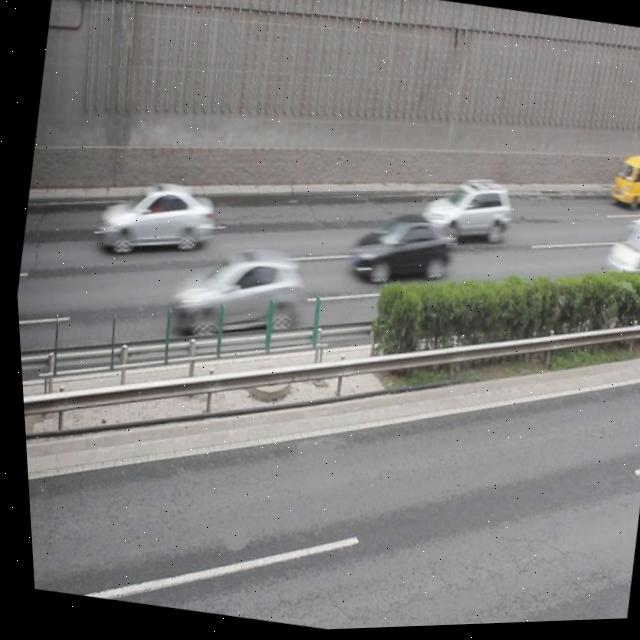car: (159, 236, 306, 355), (88, 170, 218, 270), (343, 210, 452, 295), (415, 171, 512, 256)
truck: (596, 213, 640, 292), (604, 155, 640, 217)
